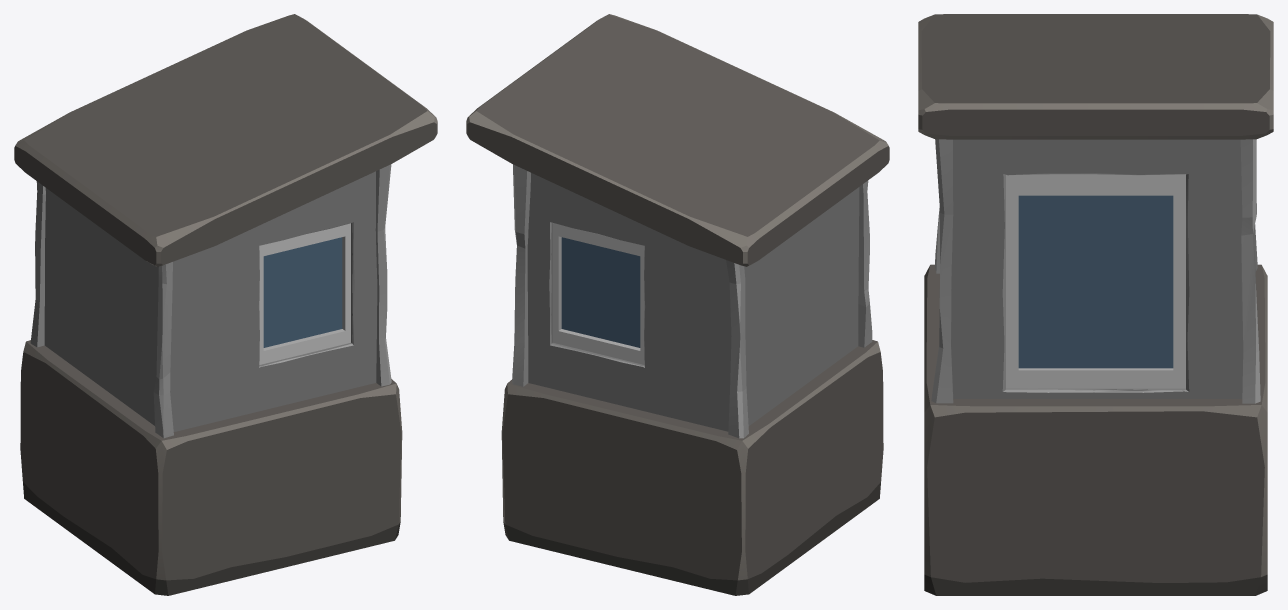
The model's file is 20C_Guardhouse.fbx.
3 views of the same model, side by side, from view 1: azimuth 30°, elevation 25°; view 2: azimuth 150°, elevation 25°; view 3: azimuth 270°, elevation 25° (orthographic). The views are drawn at different scales.
Visible parts, largest first — view 1: 20C_Guardhouse; view 2: 20C_Guardhouse; view 3: 20C_Guardhouse.
Boxes of the visible parts, x1,y1,x2,y2 form: 20C_Guardhouse: [14, 14, 437, 595]; 20C_Guardhouse: [466, 14, 889, 595]; 20C_Guardhouse: [918, 14, 1273, 595].
Bounding box in the file's own units: 32.72 × 46.41 × 29.31.
